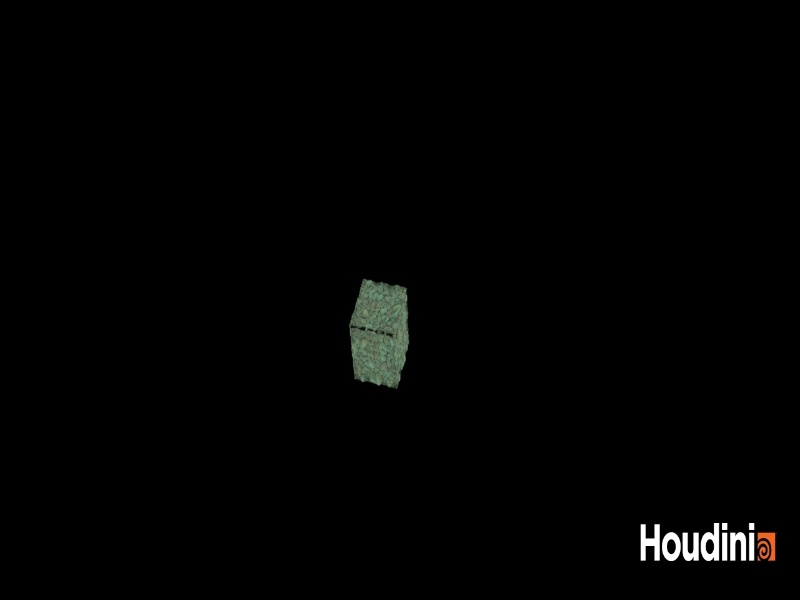waste: (335, 266, 426, 400)
